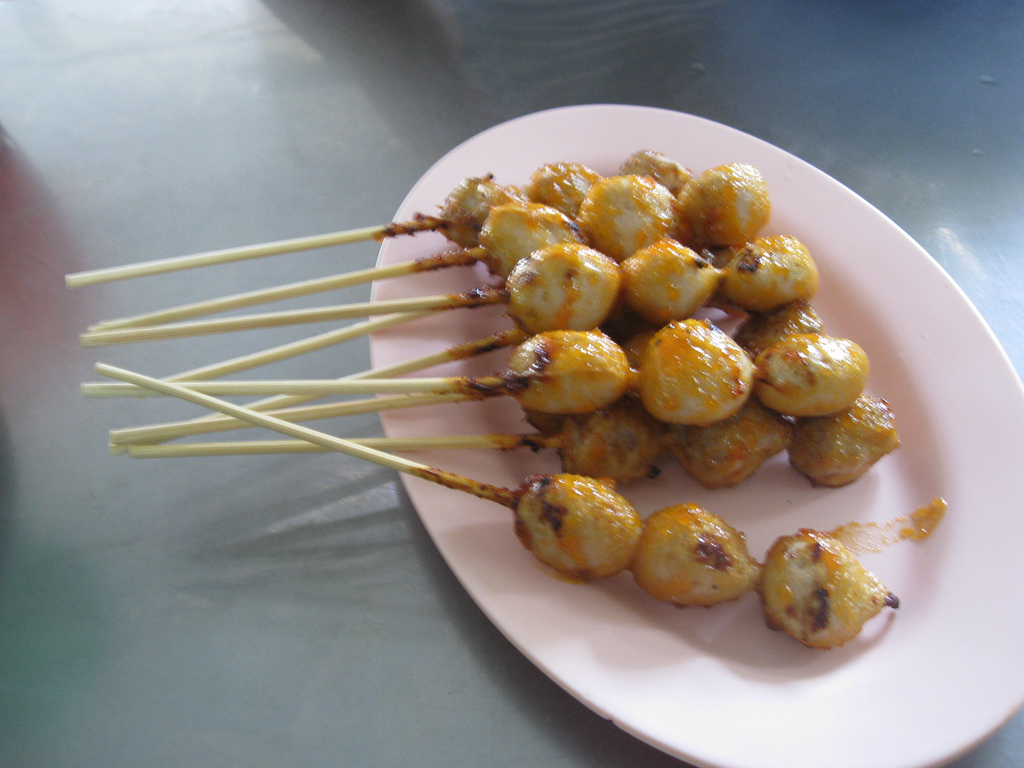meatballs: (524, 184, 811, 412), (778, 525, 904, 655)
